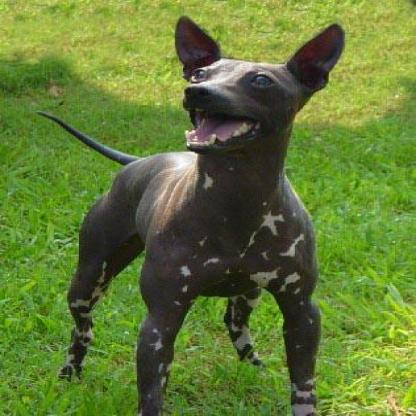Mexican_hairless: (34, 15, 344, 413)
